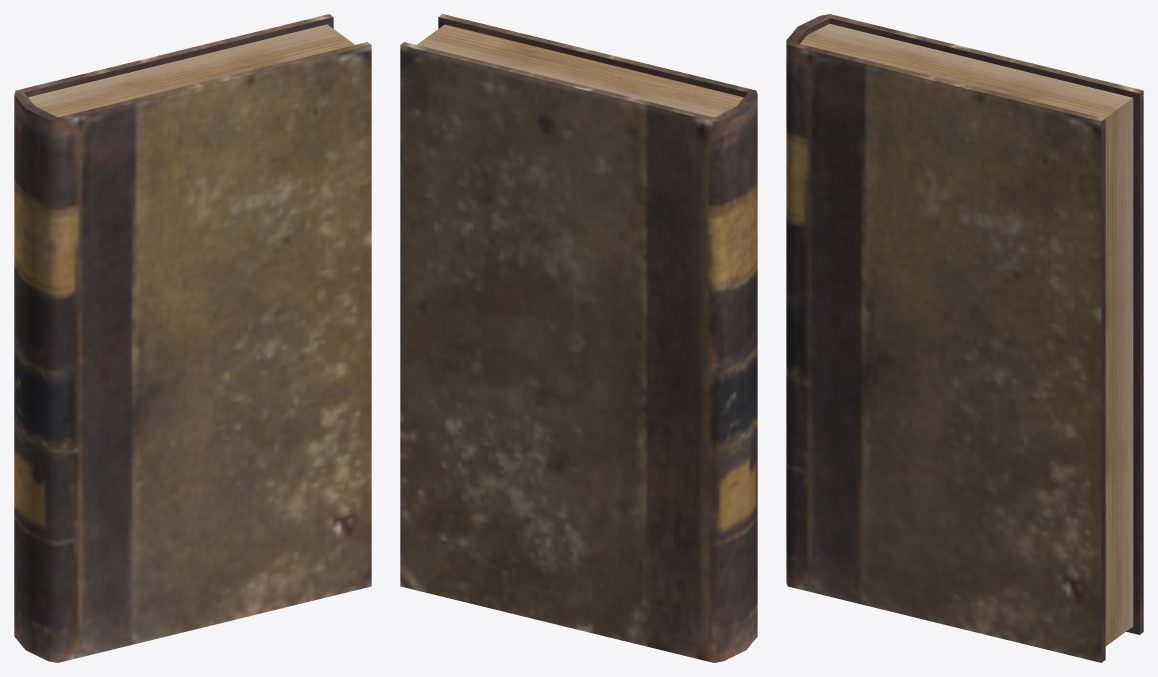
File: SM_Book_Old.011.fbx
3 views of the same model, side by side, from view 1: azimuth 30°, elevation 25°; view 2: azimuth 150°, elevation 25°; view 3: azimuth 330°, elevation 25° (orthographic).
Parts seen in each view (by area): view 1: SM_Book_Old.011; view 2: SM_Book_Old.011; view 3: SM_Book_Old.011.
Boxes of the visible parts, <box> form: SM_Book_Old.011: <box>14,14,371,662</box>; SM_Book_Old.011: <box>400,14,757,662</box>; SM_Book_Old.011: <box>786,14,1143,662</box>.
Size of the model in its own units: 0.1801 by 0.2868 by 0.0407.
